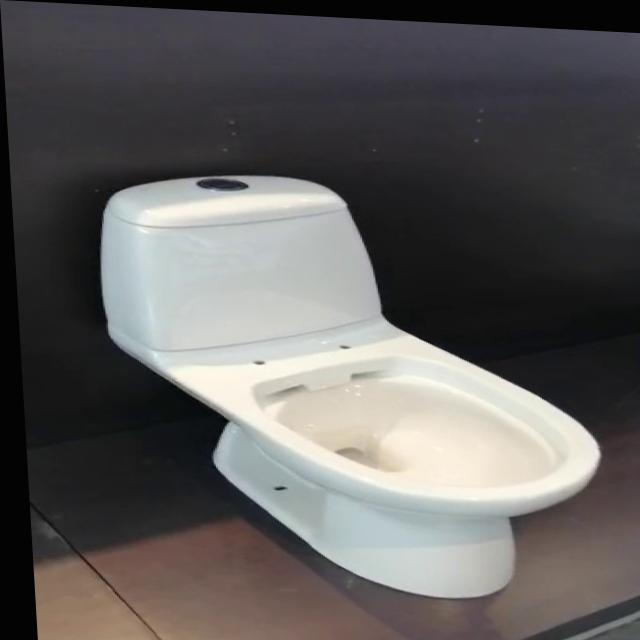toilet: (89, 164, 603, 600)
